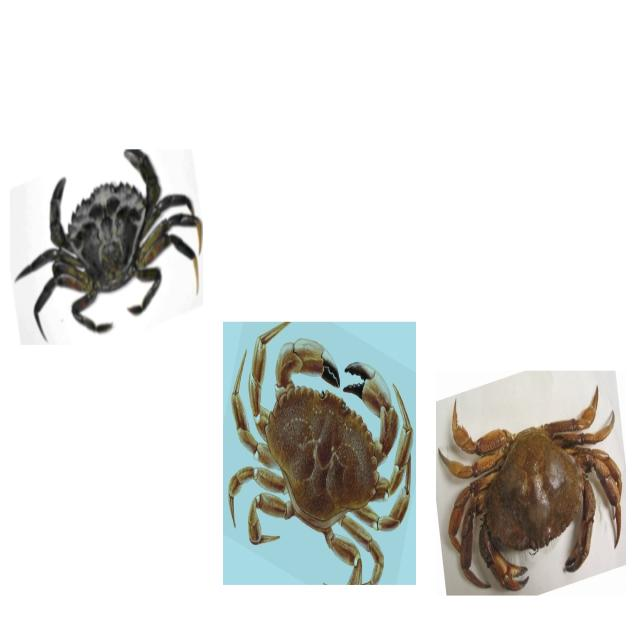egc: (9, 151, 202, 348)
jonah_crab: (224, 321, 418, 588)
rock_crab: (442, 390, 622, 587)
